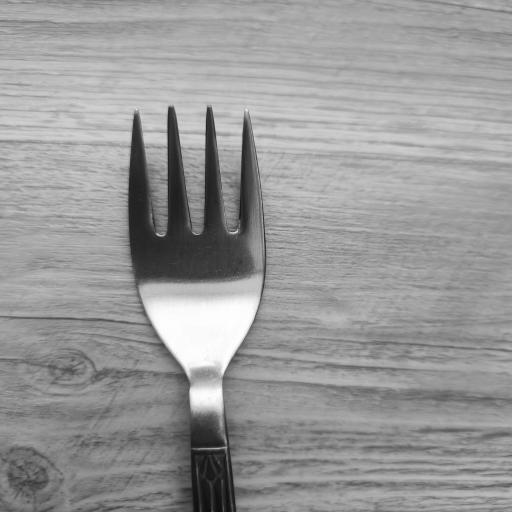fork: (127, 102, 263, 512)
